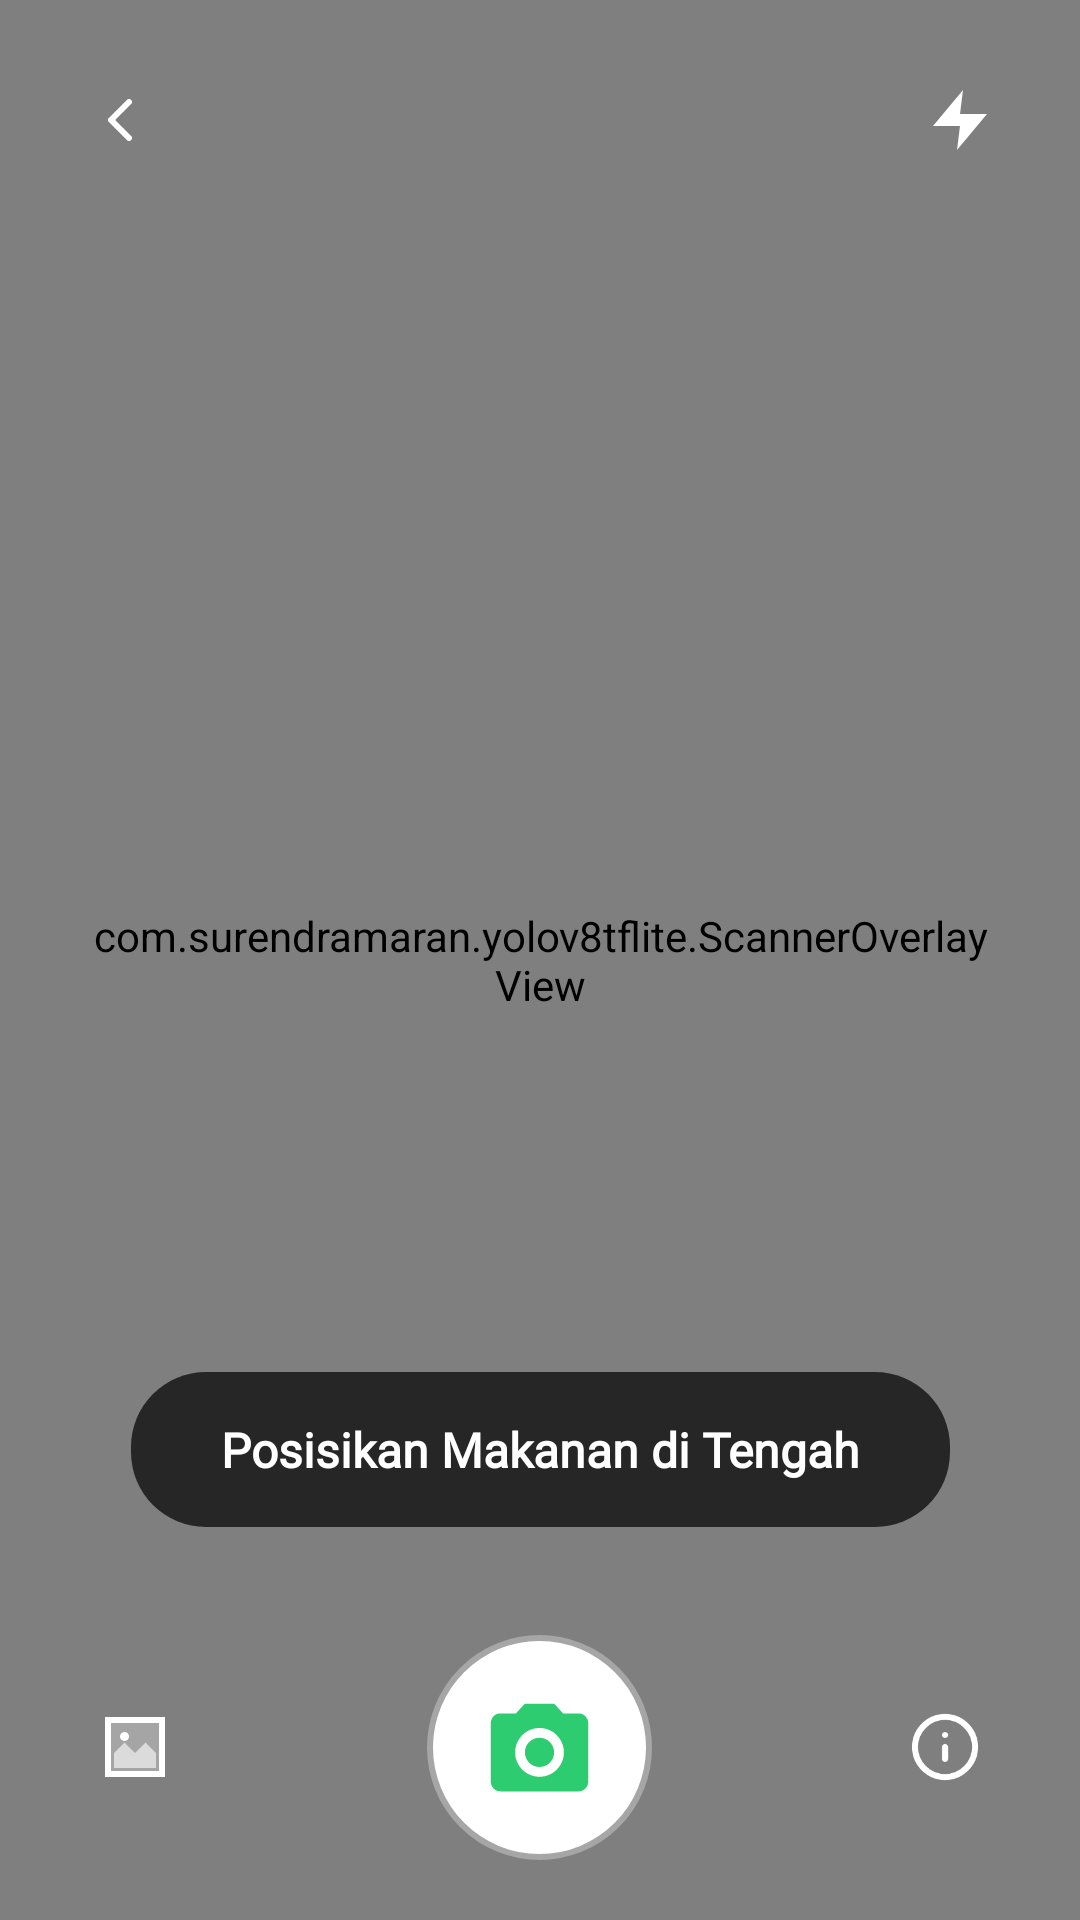

Icons on this 1080×1920 Android screen, each with its box as region(x1, y1, x2, y2):
arrow back: region(108, 99, 132, 141)
flash on: region(933, 90, 987, 150)
gallery: region(105, 1717, 165, 1777)
info: region(912, 1714, 978, 1780)
